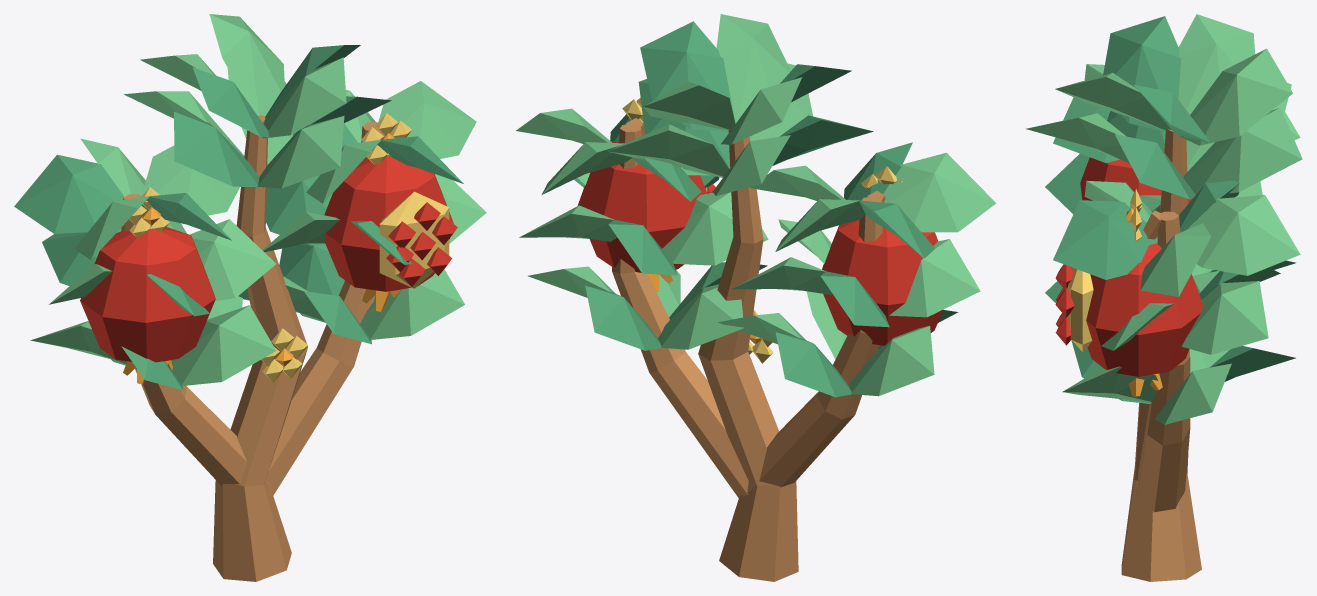
The model's file is 29-crystal-pomegranate.glb.
The picture shows the model from 3 angles, left to right: view 1: azimuth 30°, elevation 25°; view 2: azimuth 150°, elevation 25°; view 3: azimuth 270°, elevation 25°; orthographic projection. The views are drawn at different scales.
Parts seen in each view (by area): view 1: 29-crystal-pomegranate_Body; view 2: 29-crystal-pomegranate_Body; view 3: 29-crystal-pomegranate_Body.
Boxes of the visible parts, x1,y1,x2,y2 form: 29-crystal-pomegranate_Body: (14, 14, 486, 581); 29-crystal-pomegranate_Body: (516, 14, 996, 581); 29-crystal-pomegranate_Body: (1026, 14, 1302, 581).
Bounding box in the file's own units: 0.6397 × 0.7056 × 0.3347.
Materials: 1 (1 with a texture image).
